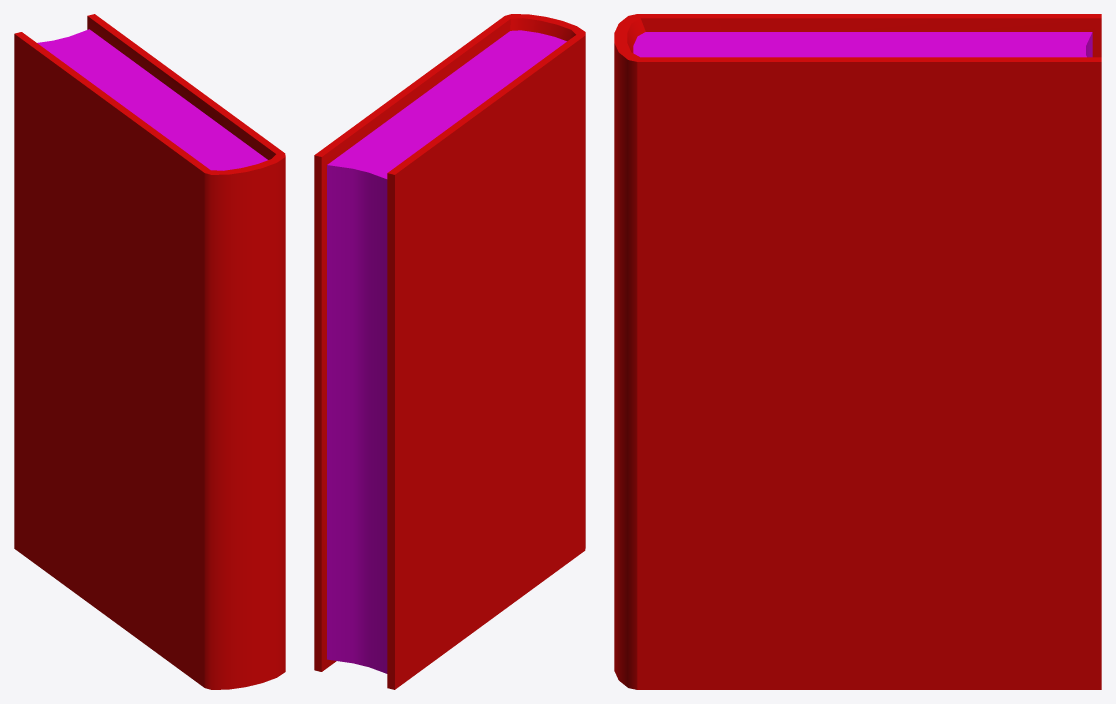
File: SM_Book.fbx
3 renders of one model, left to right at view 1: azimuth 30°, elevation 25°; view 2: azimuth 150°, elevation 25°; view 3: azimuth 270°, elevation 25°, orthographic. The views are drawn at different scales.
Parts seen in each view (by area): view 1: SM_Book; view 2: SM_Book; view 3: SM_Book.
Part boxes in pixels (box(x1,y1,x2,y2)): SM_Book: box(14, 14, 285, 689); SM_Book: box(314, 14, 585, 689); SM_Book: box(614, 14, 1101, 689).
Size of the model in its own units: 8.34 by 50.94 by 35.82.
